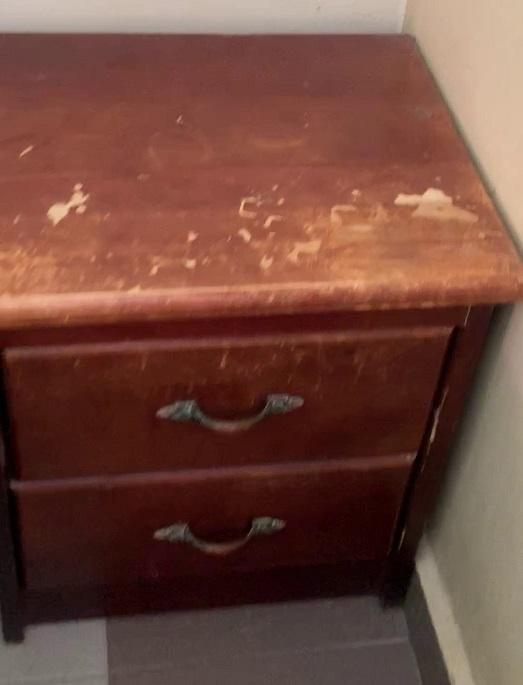cabinet_door: (10, 334, 440, 478), (18, 469, 402, 590)
handle: (153, 380, 308, 444), (150, 508, 288, 568)
